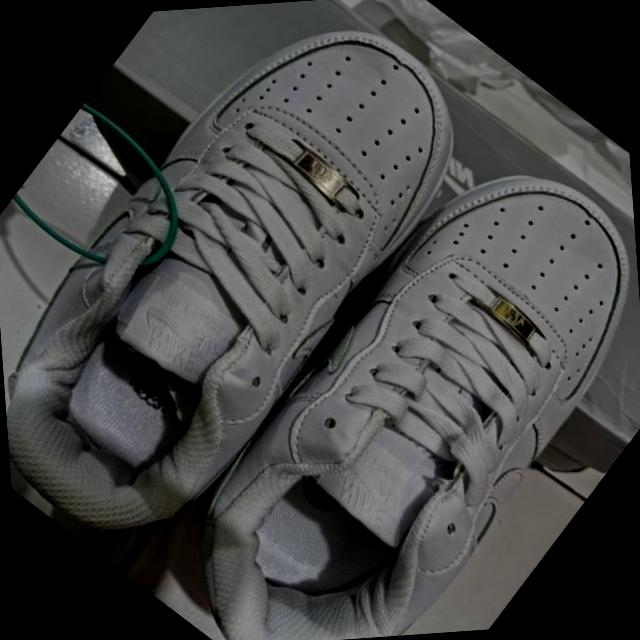nike_fake_airforce: (0, 0, 529, 587), (111, 107, 640, 640)
